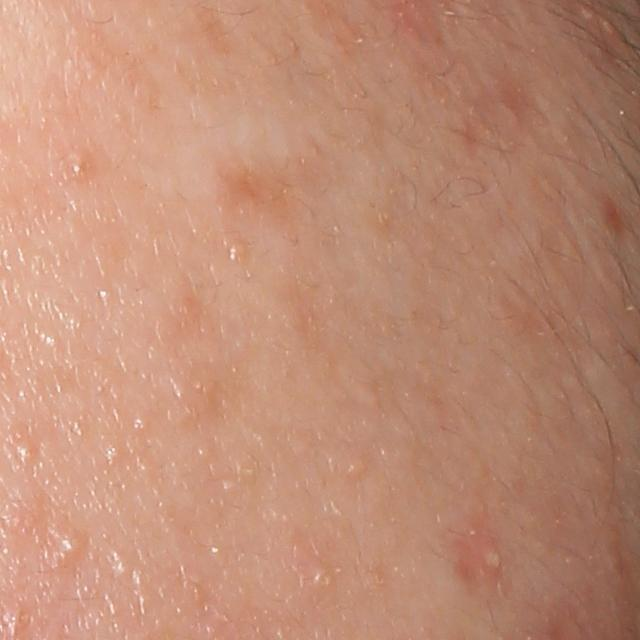comedo: (64, 147, 95, 182), (303, 568, 337, 595), (14, 433, 40, 466), (225, 235, 249, 265)
pustule: (460, 529, 513, 586)
